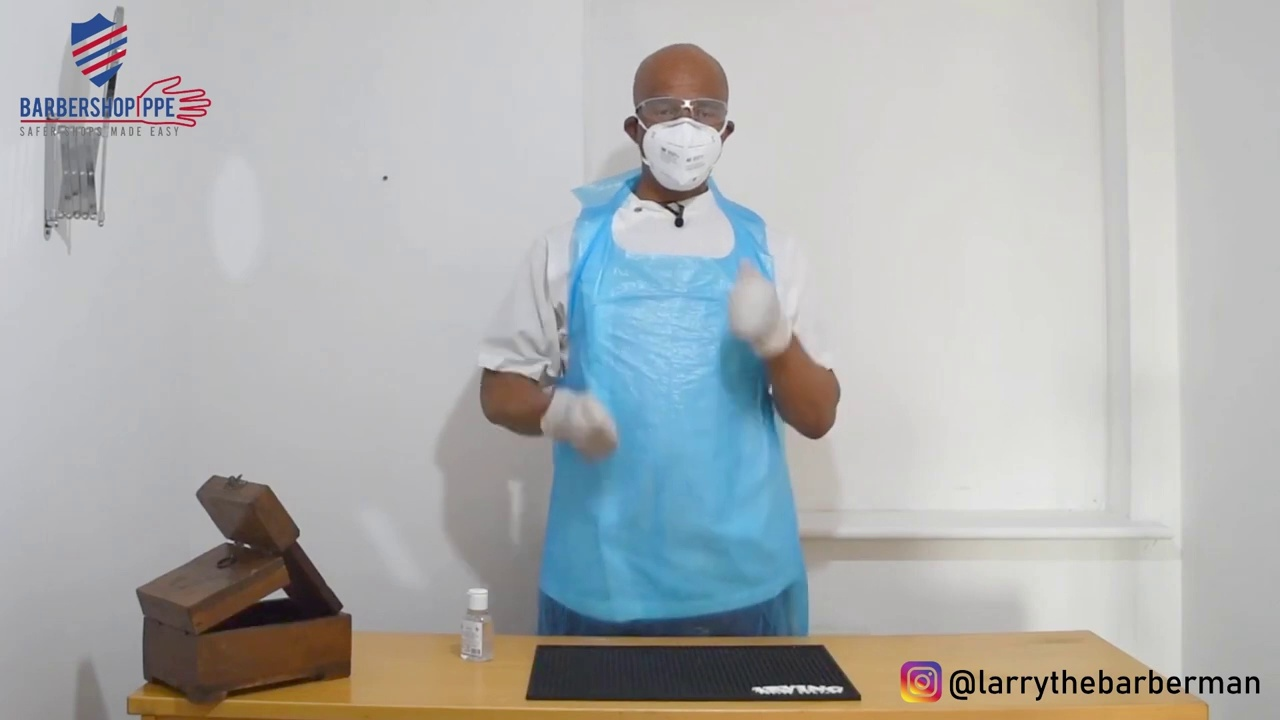Apron: (561, 170, 783, 641)
Glove: (709, 254, 797, 360), (540, 377, 621, 467)
Mask: (612, 119, 721, 190)
No_Hairnet: (621, 40, 731, 96)
